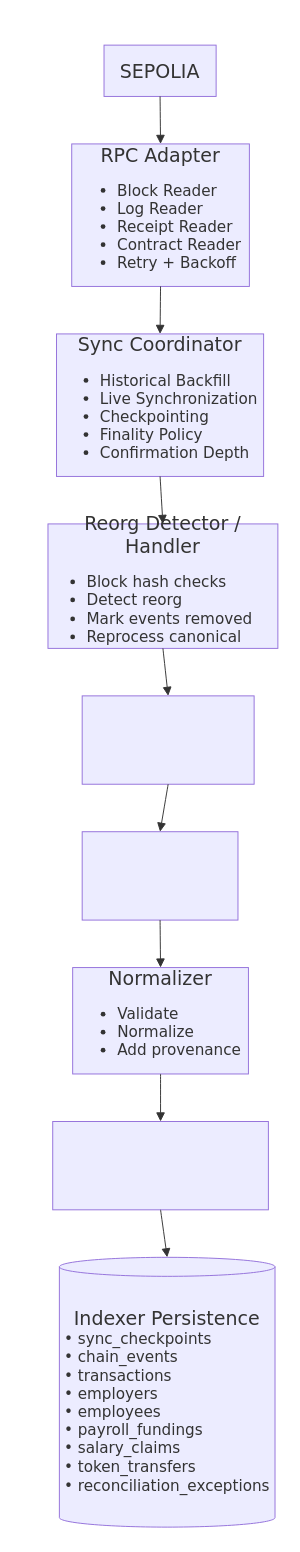
The diagram is 300 pixels wide and 1552 high, and some of its shapes have lost their labels. Here are the shapes that lost their labels. From the top down, the centre of each, then its label:
pixel 167 739: Log Fetcher MonthlyPayroll Generic ERC-20
pixel 159 875: Event Decoder Payroll ABI ERC-20 ABI
pixel 160 1165: Idempotent Write Unique Event Identity Upsert / Ignore
